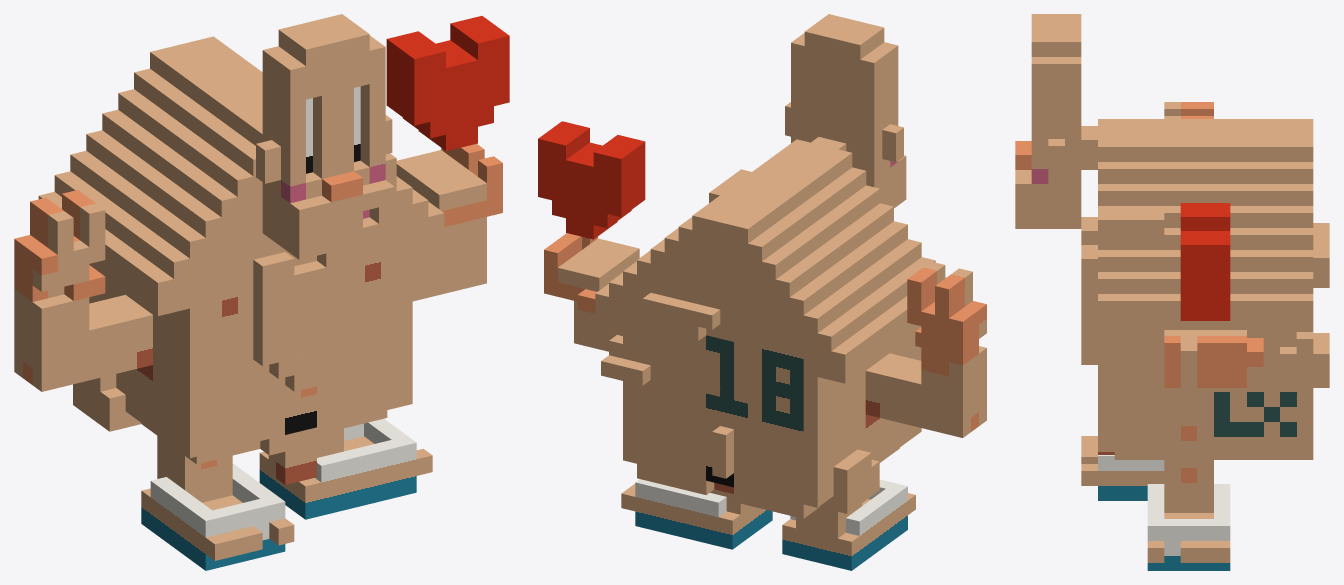
File: HOME#18_GLB.glb
3 renders of one model, left to right at view 1: azimuth 30°, elevation 25°; view 2: azimuth 150°, elevation 25°; view 3: azimuth 270°, elevation 25°, orthographic. The views are drawn at different scales.
Visible parts, largest first — view 1: Node-Local; view 2: Node-Local; view 3: Node-Local.
Part boxes in pixels (left/top/right/bottom): Node-Local: left=14, top=14, right=509, bottom=570; Node-Local: left=538, top=14, right=986, bottom=570; Node-Local: left=1015, top=14, right=1329, bottom=570.
Size of the model in its own units: 30 by 32 by 19.
Materials: 1 (1 with a texture image).
